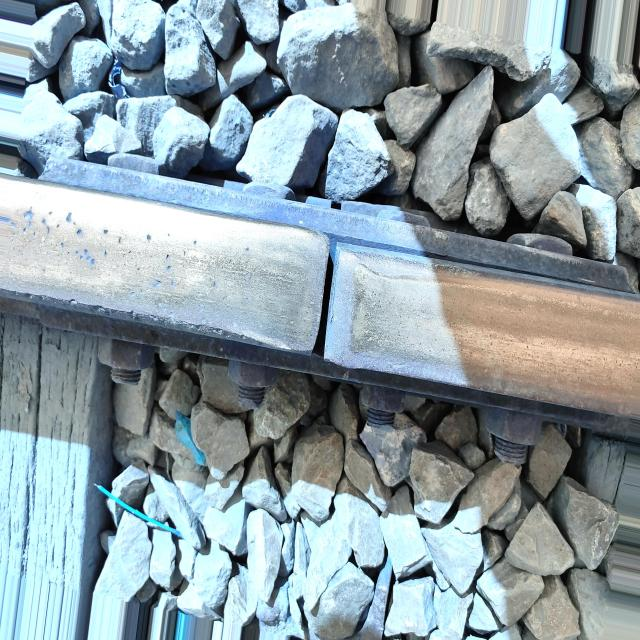crack: (299, 233, 352, 370)
